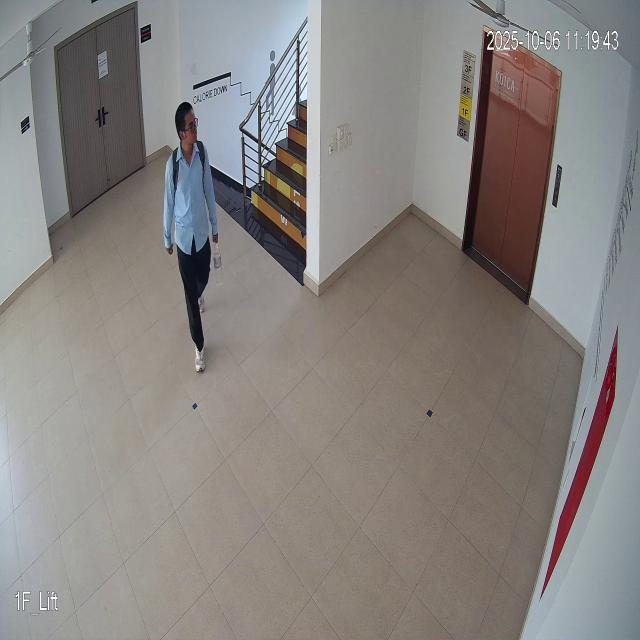face: (173, 98, 200, 154)
